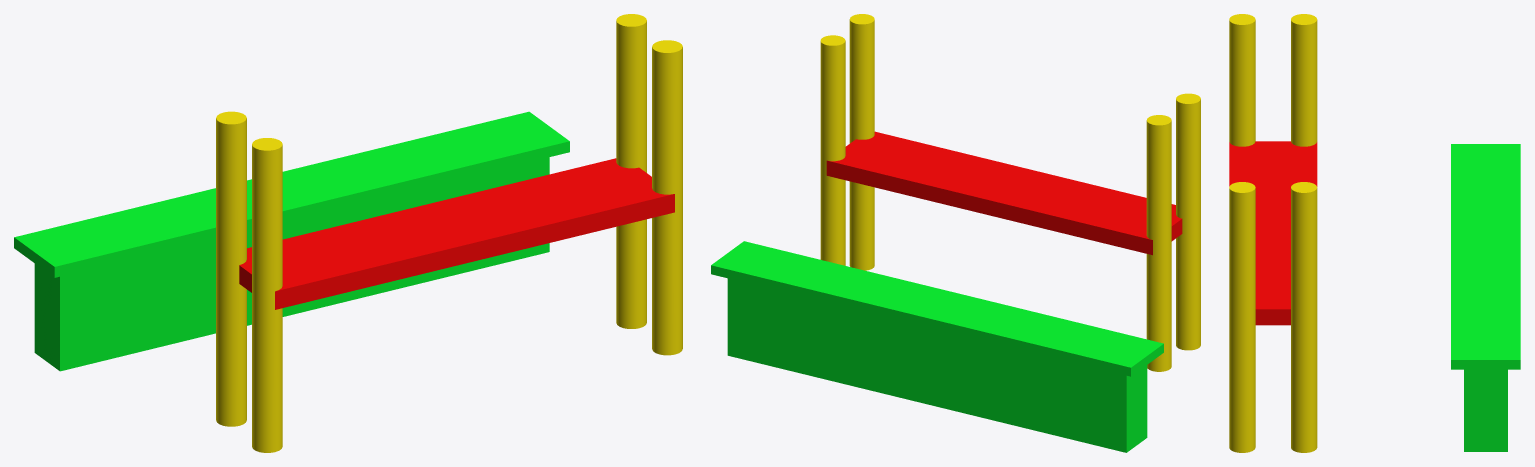
Rendered from Bar.FBX.
3 renders of one model, left to right at view 1: azimuth 30°, elevation 25°; view 2: azimuth 150°, elevation 25°; view 3: azimuth 270°, elevation 25°, orthographic. The views are drawn at different scales.
Visible parts, largest first — view 1: Box231, Cylinder003, Box232; view 2: Box231, Cylinder003, Box232; view 3: Cylinder003, Box231, Box232.
Boxes of the visible parts, x1,y1,x2,y2 form: Box231: [14, 111, 569, 371]; Cylinder003: [216, 14, 682, 452]; Box232: [239, 158, 674, 309]; Box231: [711, 241, 1163, 452]; Cylinder003: [820, 14, 1200, 371]; Box232: [826, 131, 1182, 255]; Cylinder003: [1229, 14, 1317, 452]; Box231: [1451, 144, 1520, 451]; Box232: [1229, 141, 1317, 325].
Bounding box in the file's own units: 5.81 × 3.26 × 3.31.
